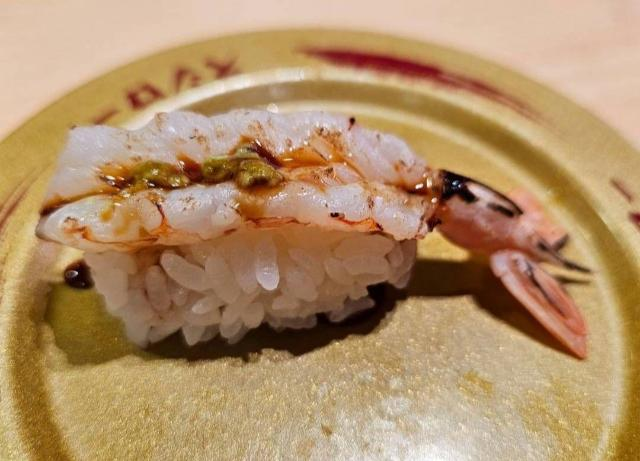jangold: (36, 44, 608, 446)
